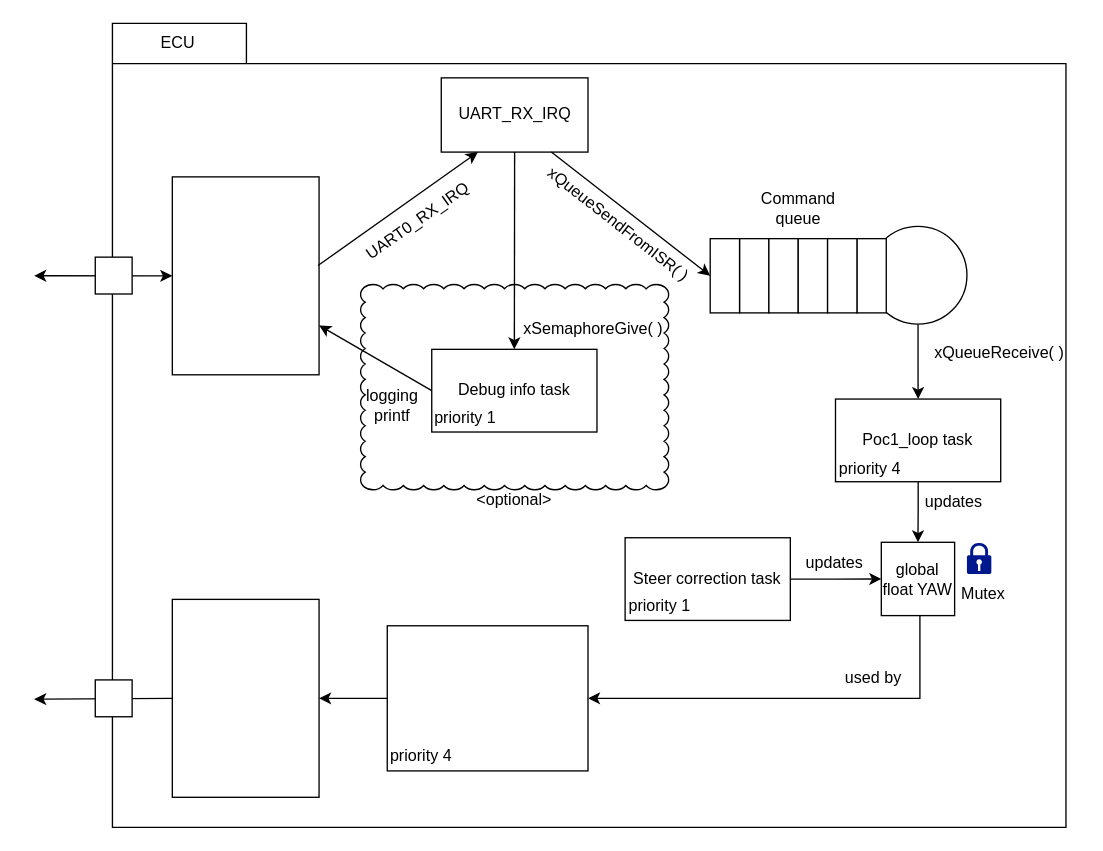
Image size: 1103x851. Some labels were removed from this diagram. The box of each missing label's shape, as (x1, y1, x2, y2) in pixels:
FreeRTOS plus TCP stack: (171, 598, 319, 797)
UART interface: (171, 176, 319, 375)
XRCE_DDS_task: (386, 624, 588, 771)
